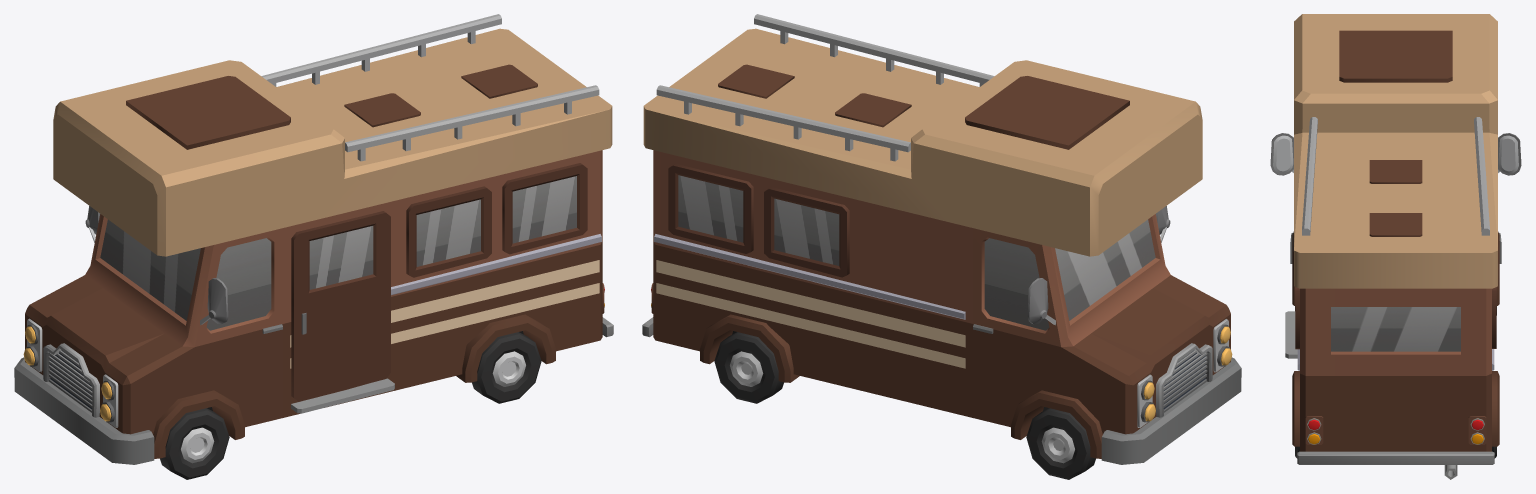
The model's file is RVCar_I.gltf.
3 renders of one model, left to right at view 1: azimuth 30°, elevation 25°; view 2: azimuth 150°, elevation 25°; view 3: azimuth 270°, elevation 25°, orthographic. The views are drawn at different scales.
Visible parts, largest first — view 1: RVCar_I, RL, FL; view 2: RVCar_I, RR, FR; view 3: RVCar_I.
Part boxes in pixels (left/top/right/bottom): RVCar_I: left=14, top=14, right=613, bottom=464; RL: left=472, top=332, right=541, bottom=403; FL: left=160, top=408, right=229, bottom=479; RVCar_I: left=642, top=14, right=1241, bottom=464; RR: left=714, top=332, right=783, bottom=403; FR: left=1026, top=408, right=1095, bottom=479; RVCar_I: left=1270, top=14, right=1521, bottom=479.
Size of the model in its own units: 4.14 by 2.46 by 1.94.
4 materials, 4 textured.
